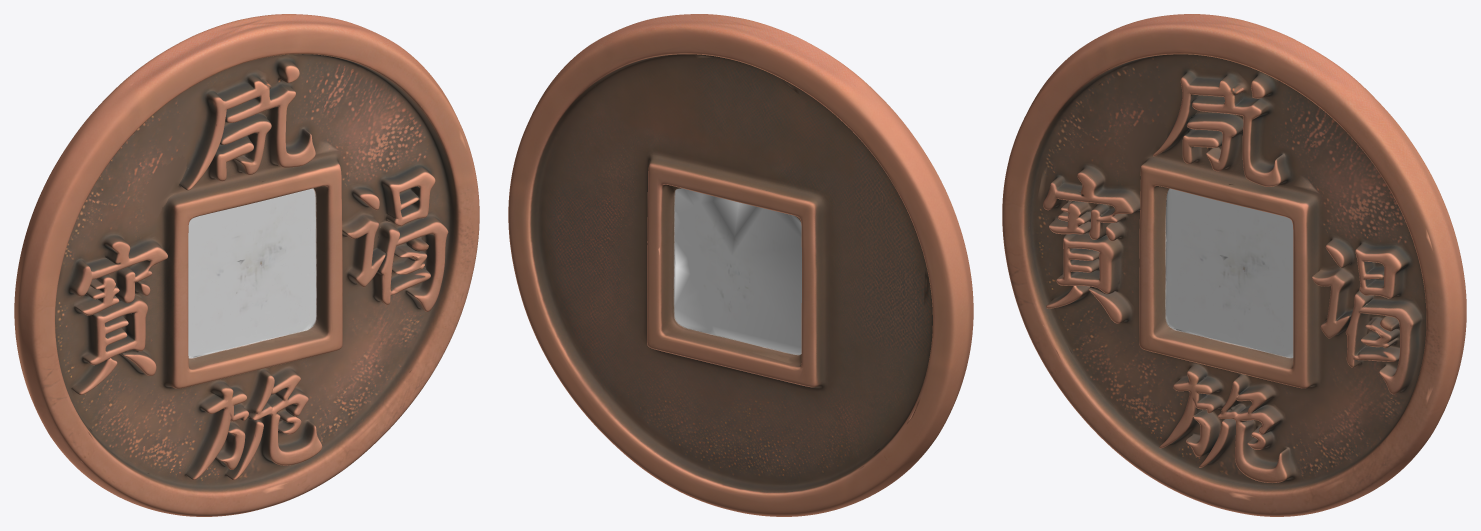
The picture shows the model from 3 angles, left to right: view 1: azimuth 30°, elevation 25°; view 2: azimuth 150°, elevation 25°; view 3: azimuth 330°, elevation 25°; orthographic projection.
Bounding box in the file's own units: 1.18 × 1.19 × 0.104.
1 material, 1 textured.
